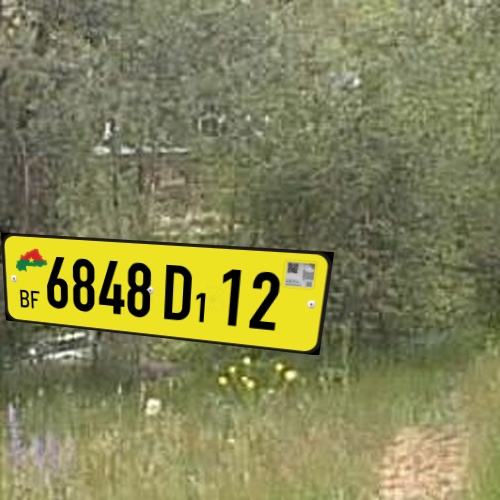plate: (1, 209, 341, 372)
